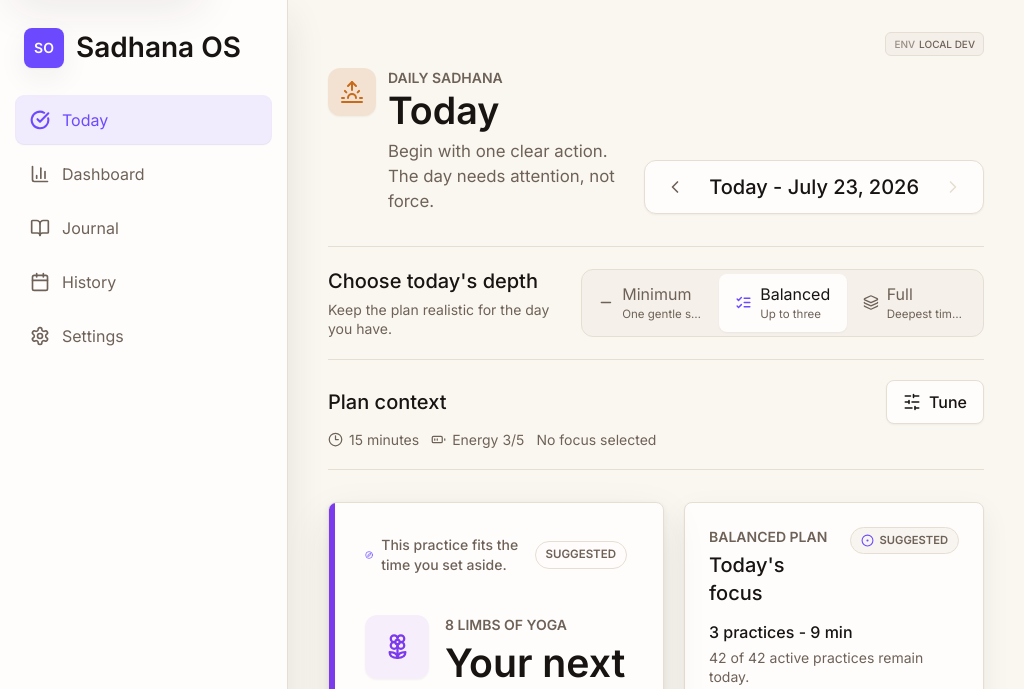
Test: App › switches to History tab
What coordinates should you click on to do the following:
click the button "History"
I would click on:
 (144, 282)
Its box is [16,258,271,306].
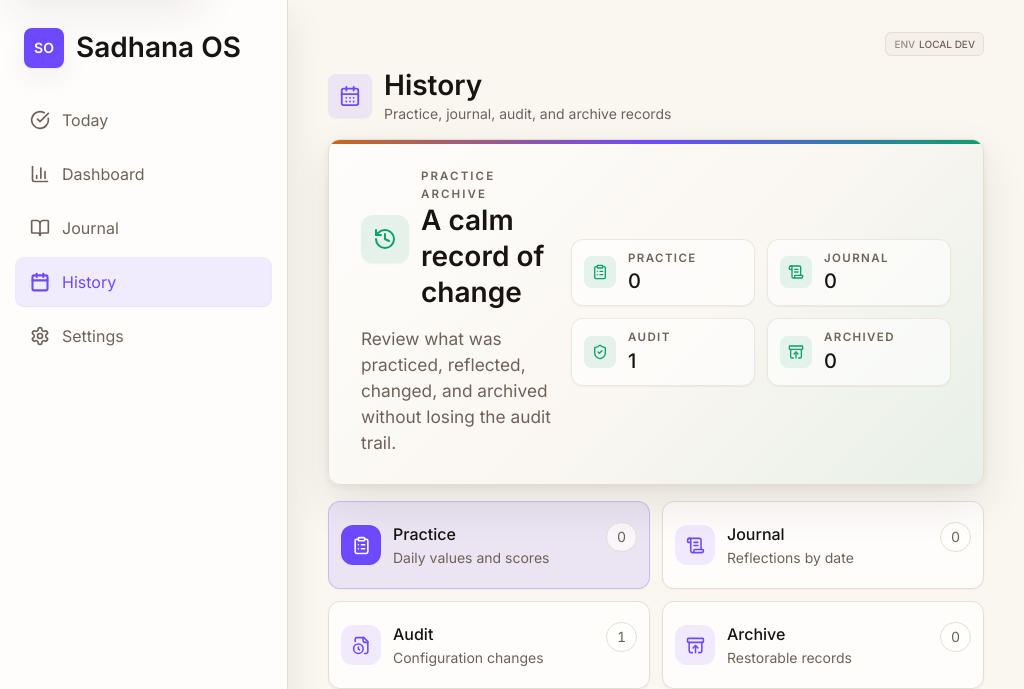
expect the heading "History" is shown: met, box [384,68,482,102]
expect the button with aria-label "Practice History" is shown: met, box [328,501,650,589]
